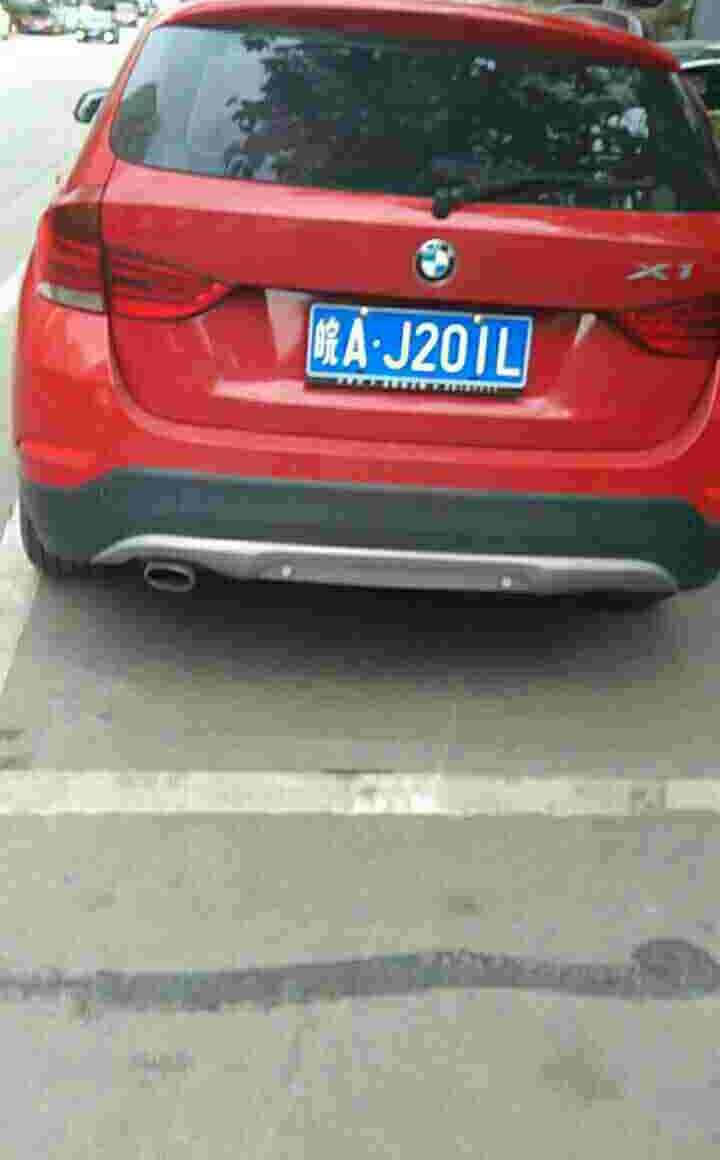plate: (307, 301, 537, 392)
